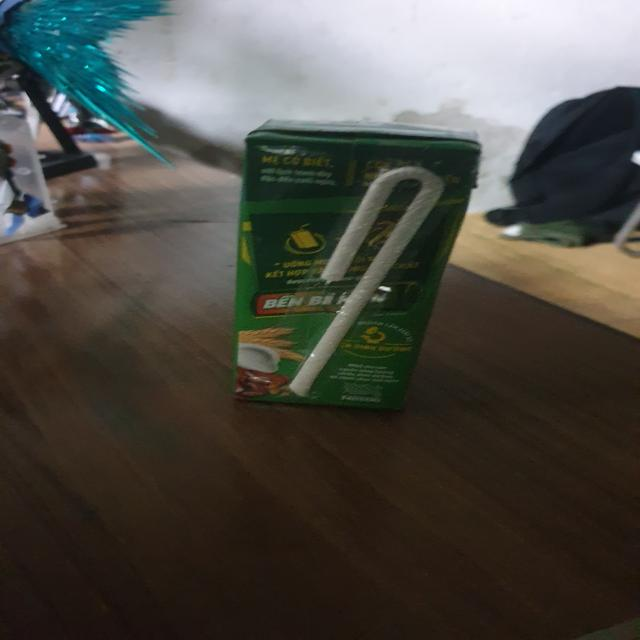Milo: (244, 123, 484, 407)
